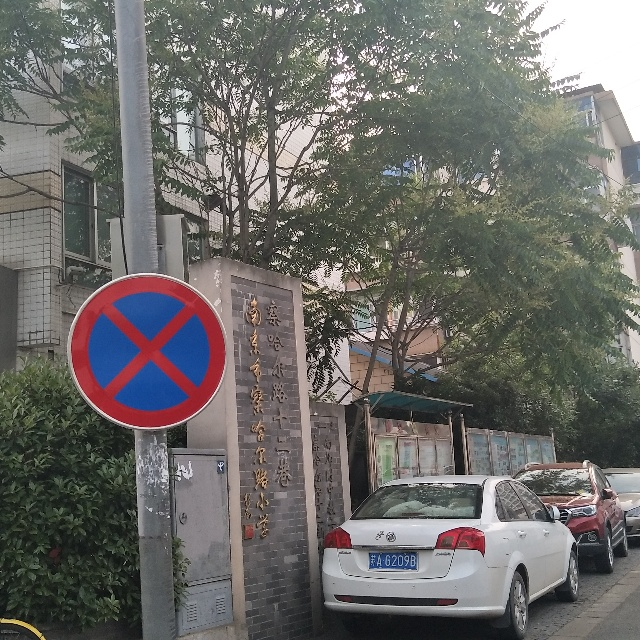stop: (70, 272, 215, 424)
